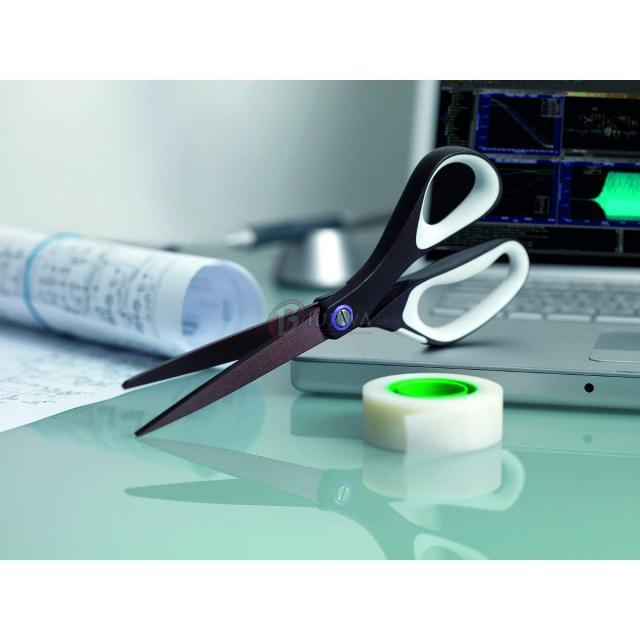tesoura: (110, 131, 557, 460)
